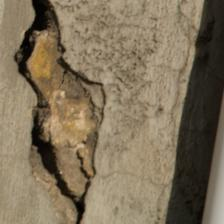Crack: (5, 0, 106, 102), (0, 10, 197, 40)
